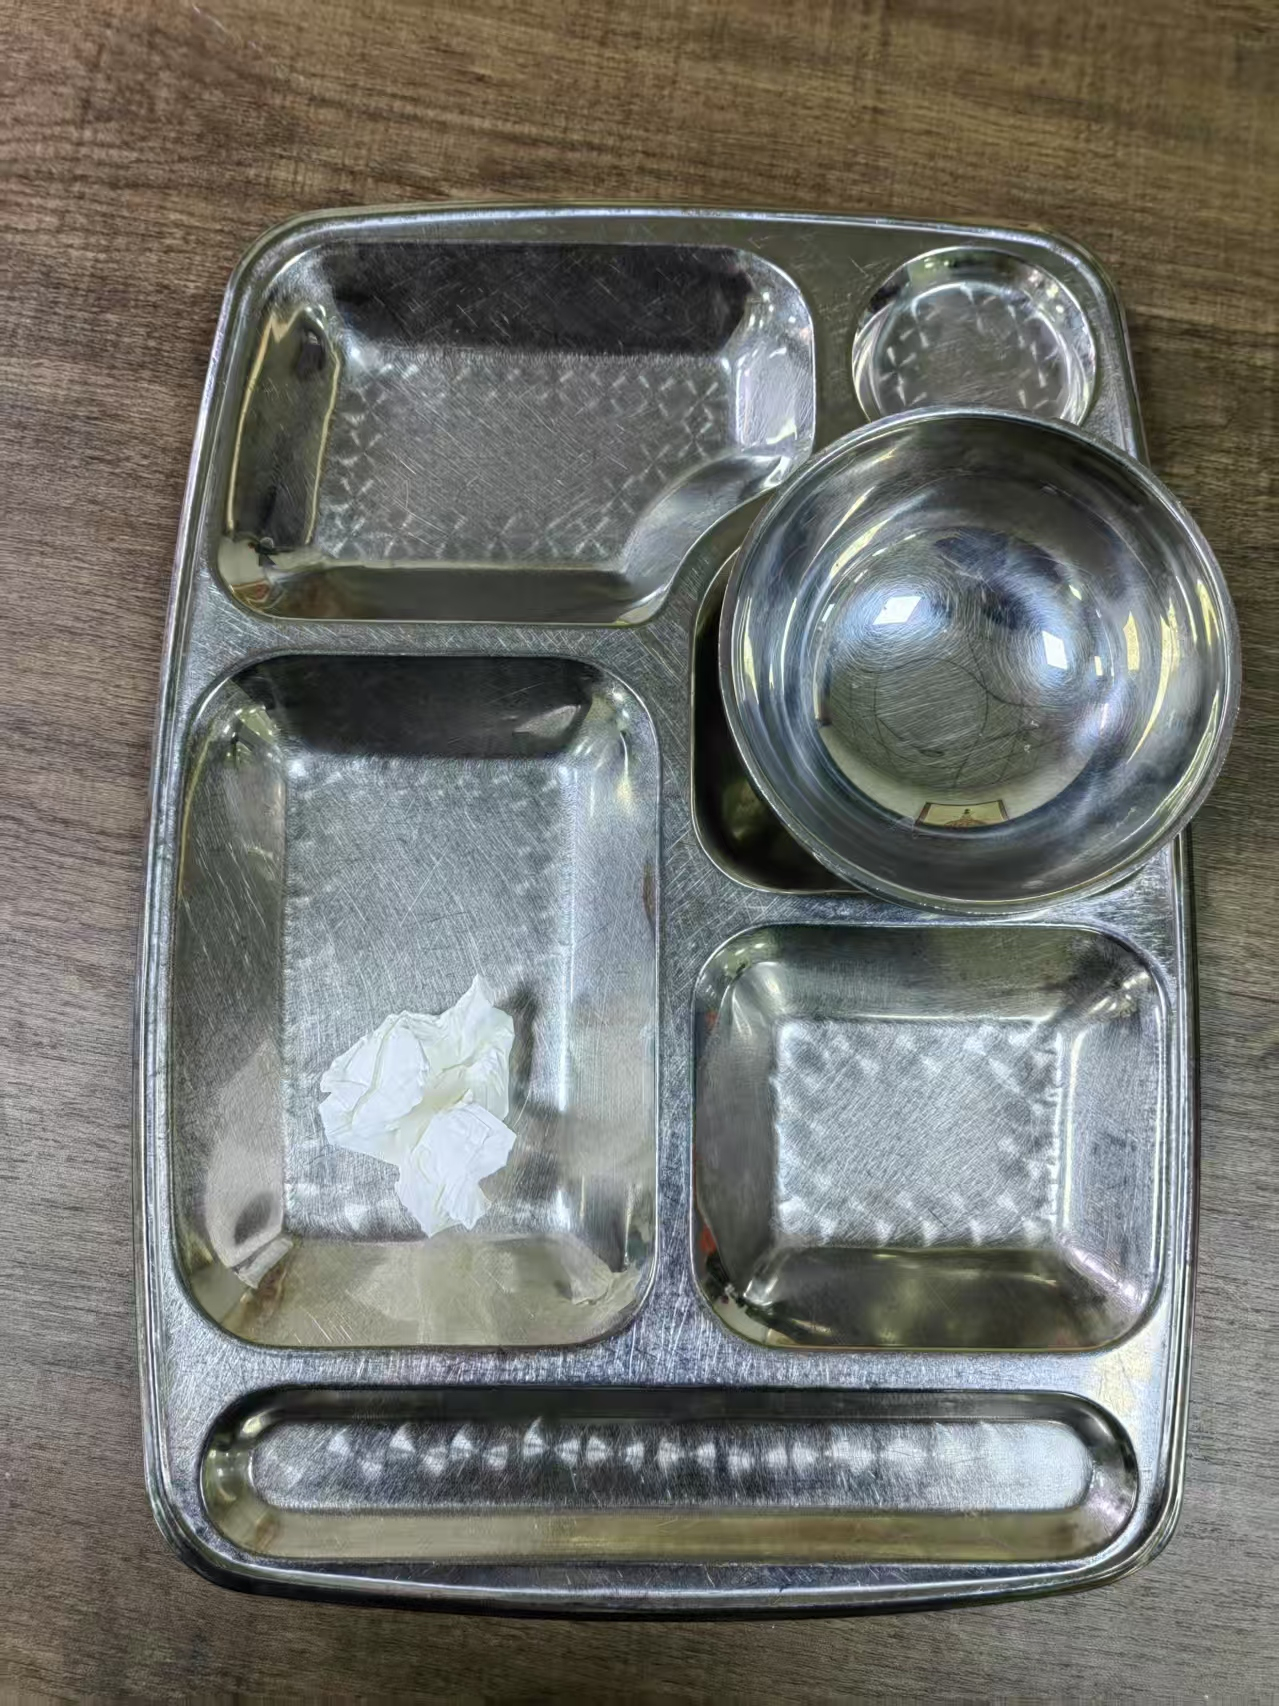plate: (131, 200, 1193, 1623)
tissue: (313, 972, 516, 1234)
